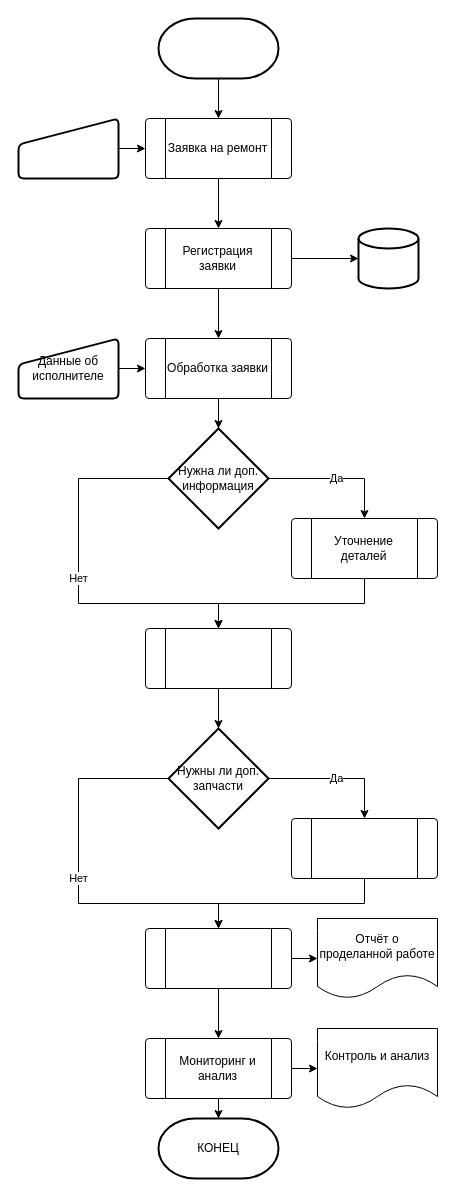
Image size: 455x1196. Some labels were removed from this diagram. The centre of each missing label's shape, as x and y in pixels:
"Заказ деталей" goes at [364,848].
"Исполнение заявки" goes at [218,658].
"НАЧАЛО" goes at [218,48].
"Неисправность оборудования" goes at [68,148].
"Отчётность и информирование" goes at [218,958].
"Система учёта заявок" goes at [388,258].
